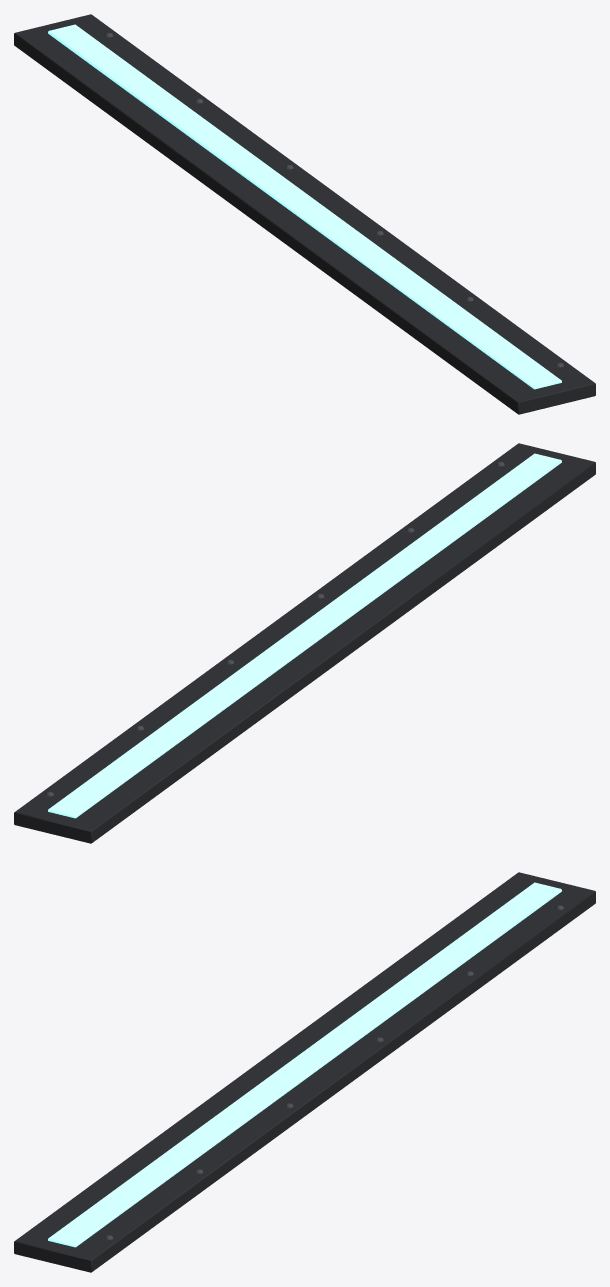
The model's file is Floor_Seam.glb.
The picture shows the model from 3 angles, top to bottom: view 1: azimuth 30°, elevation 25°; view 2: azimuth 150°, elevation 25°; view 3: azimuth 330°, elevation 25°; orthographic projection.
Parts seen in each view (by area): view 1: Floor_Seam; view 2: Floor_Seam; view 3: Floor_Seam.
Part boxes in pixels (x1,y1,x2,y2): Floor_Seam: (14,14,595,414); Floor_Seam: (14,443,595,843); Floor_Seam: (14,872,595,1272).
Bounding box in the file's own units: 0.5 × 0.095 × 5.6.
